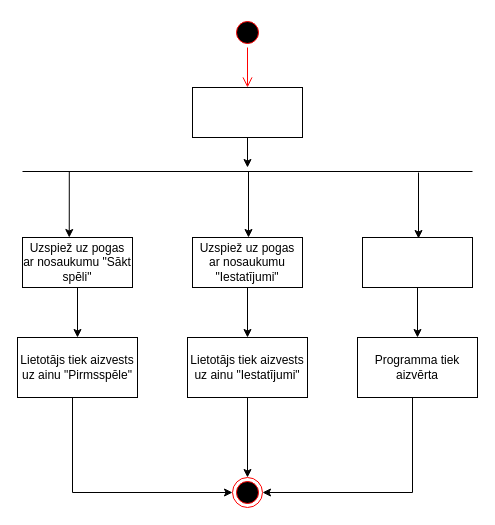
Some shapes in this 495 by 525 pixel diagram are drawn without their labels. The centre of each missing label's shape, as x and y in pixels:
Ielādējas "Galvenā izvēlnes" aina: point 247,112
Uzspiež uz pogas ar nosaukumu "Iziet uz darbavirsmu": point 417,262
